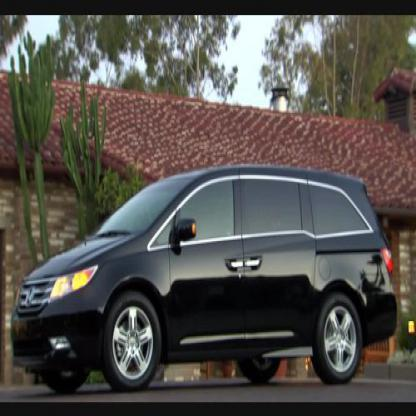Vehicle: (11, 168, 399, 394)
